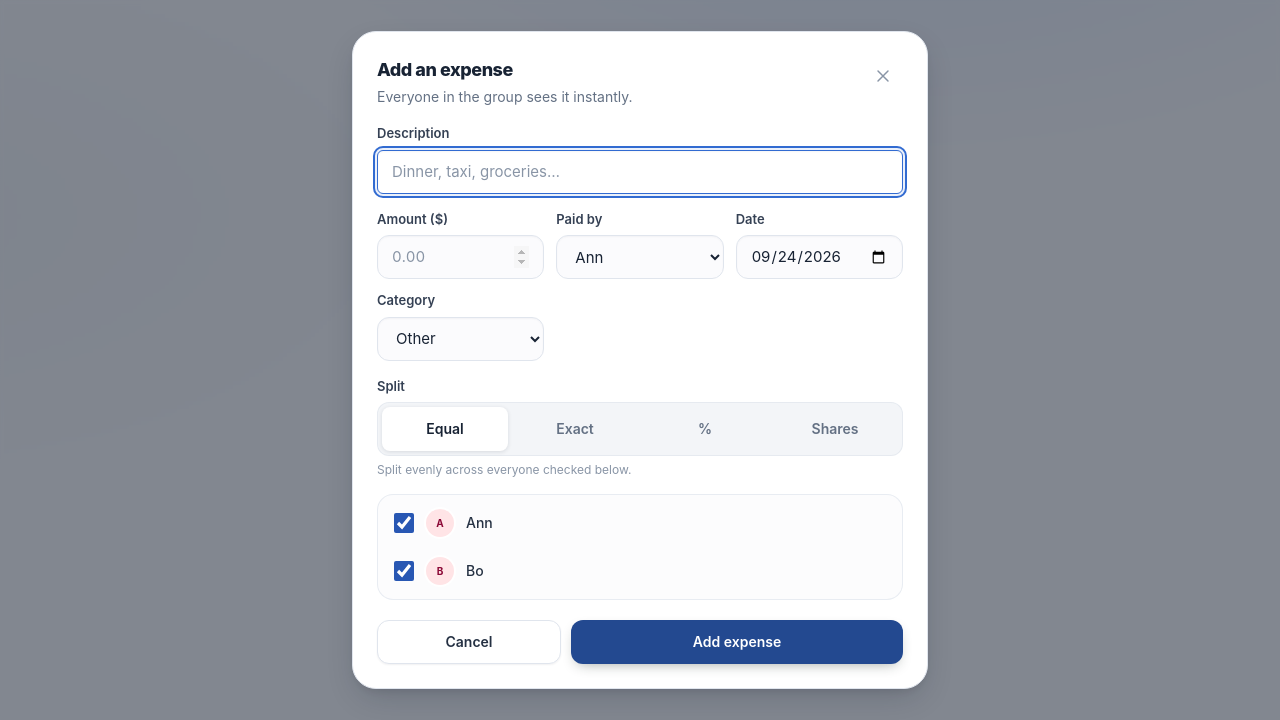
Test: ExpenseModal › validates description and amount before saving
Click the button "Add expense" at [737, 642], box [571,620,903,664]
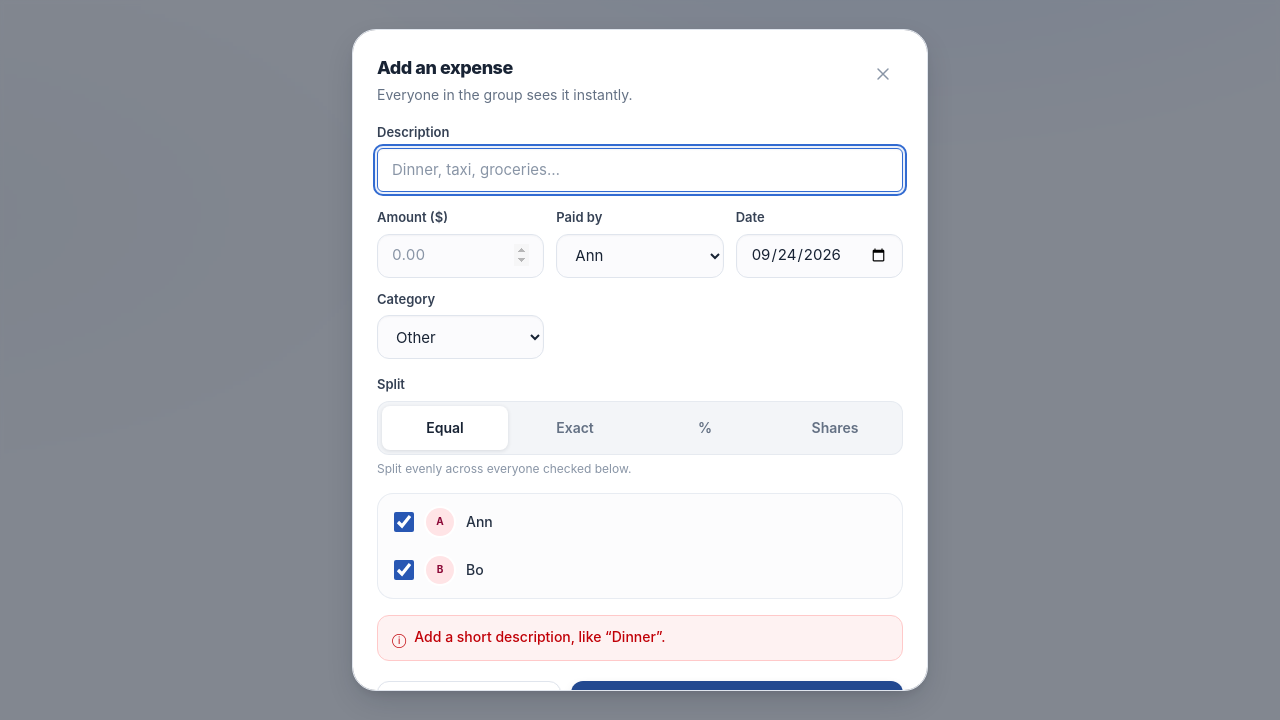
Check: the message shows "description", box [414,628,665,644]
Type "Dinner" into the field with placeholder "Dinner, taxi, groceries…" at [640, 170], box [377,148,903,192]
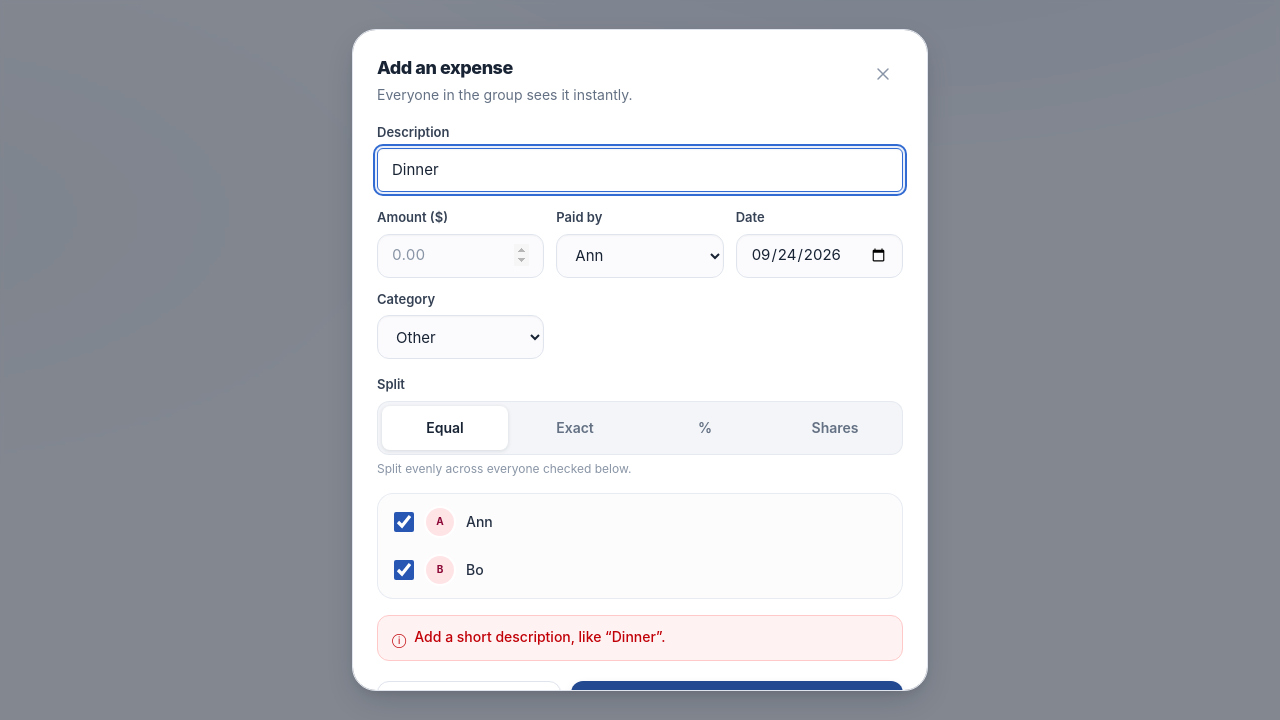
Type "100" into the number field with placeholder "0.00" at [461, 256], box [377,234,544,278]
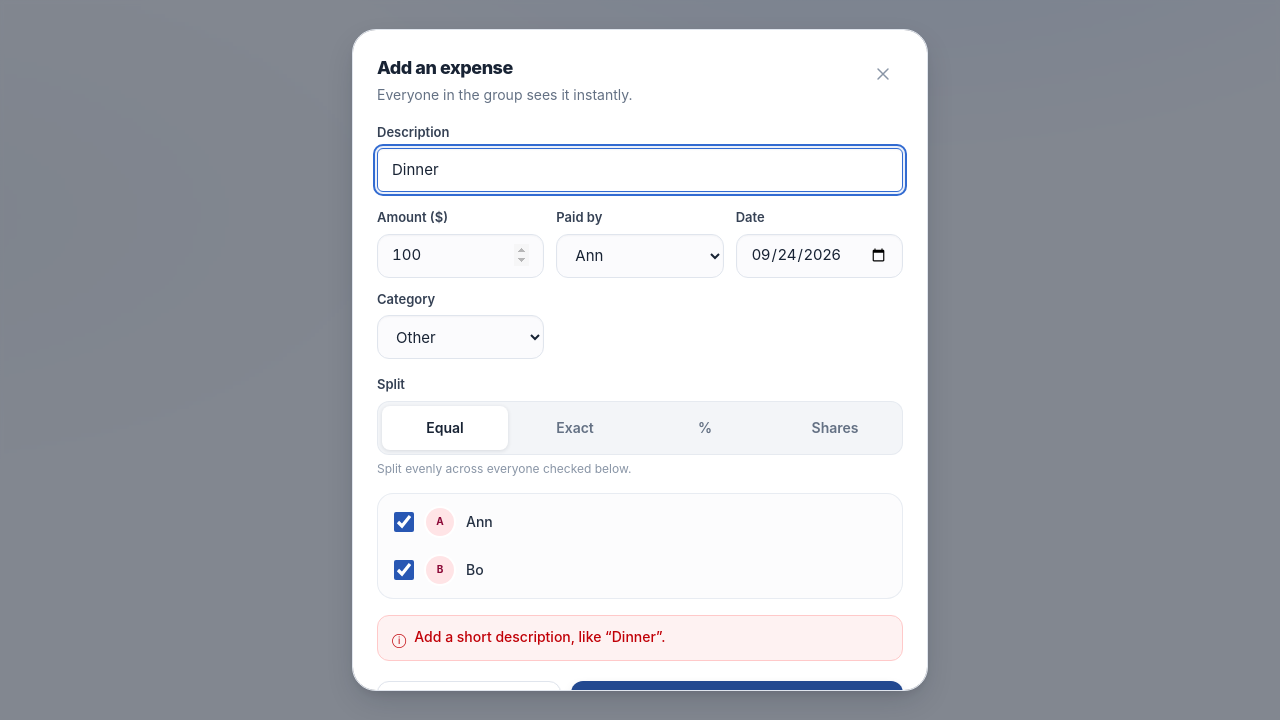
Replace the text in the number field with placeholder "0.00" with "0" at [461, 256], box [377,234,544,278]
(page scrolled)
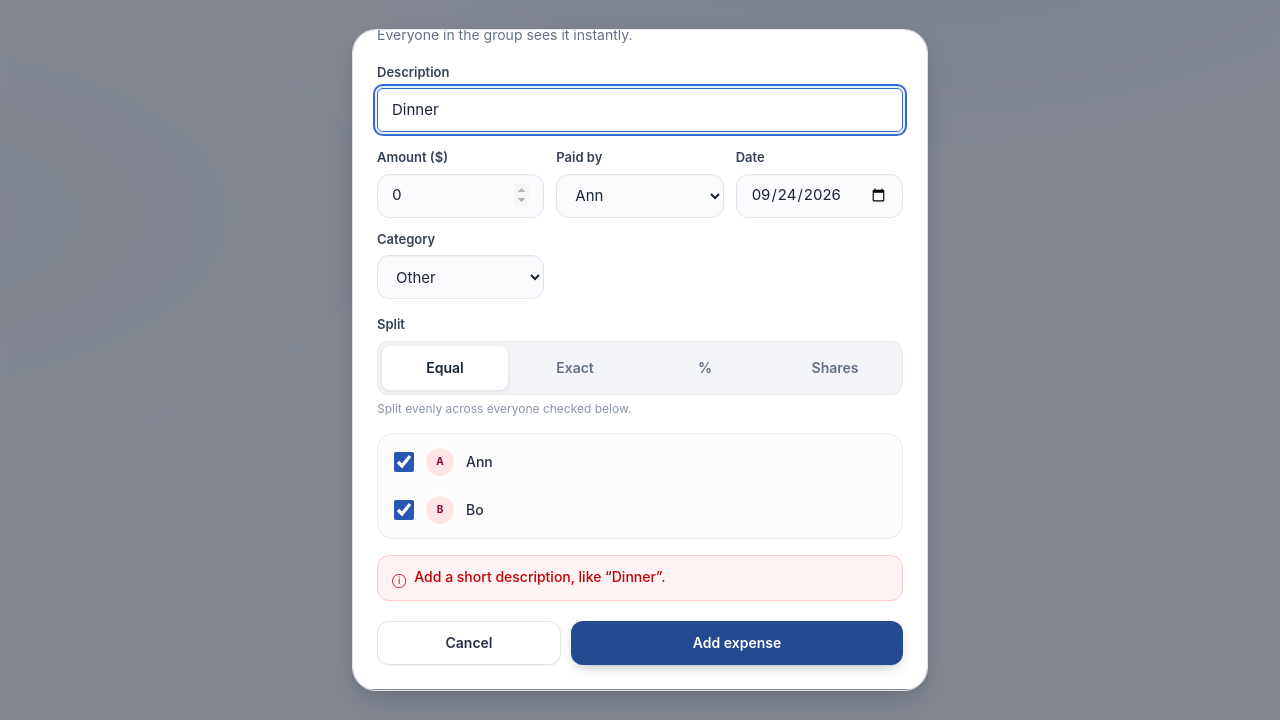
Click the button "Add expense" at [737, 643], box [571,621,903,665]
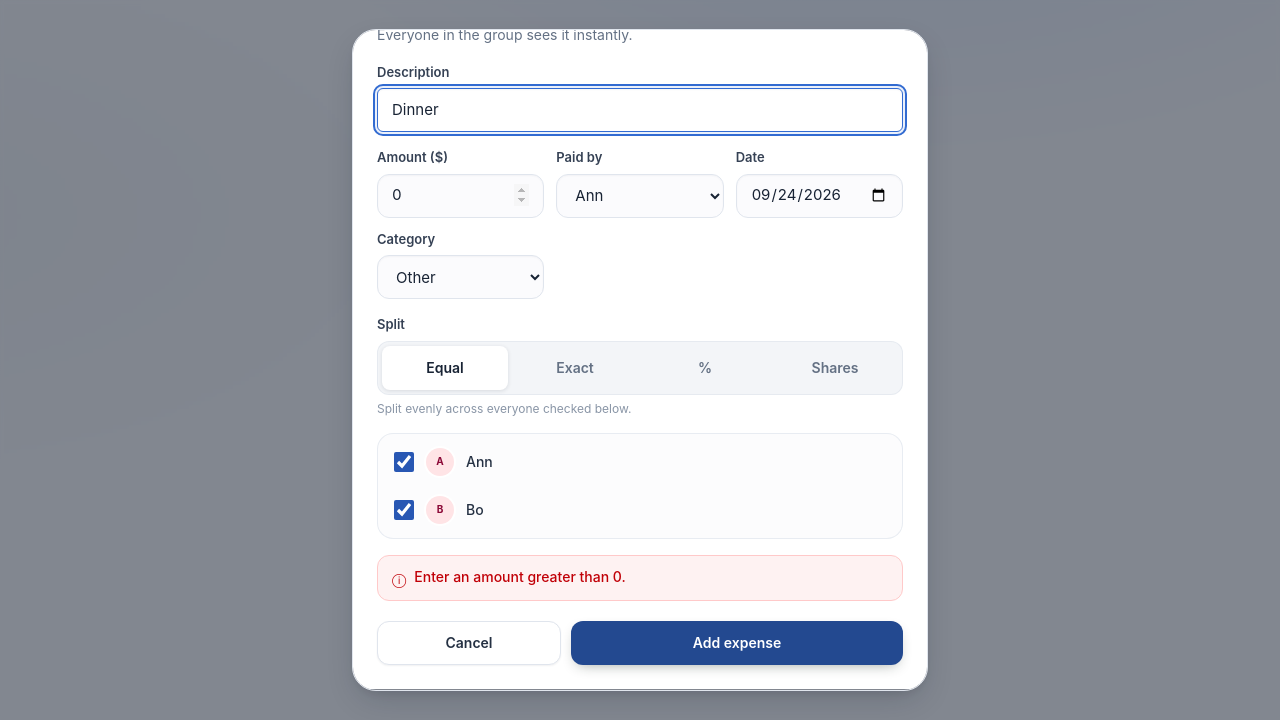
Check: the message shows "greater than 0", box [414,568,626,584]
